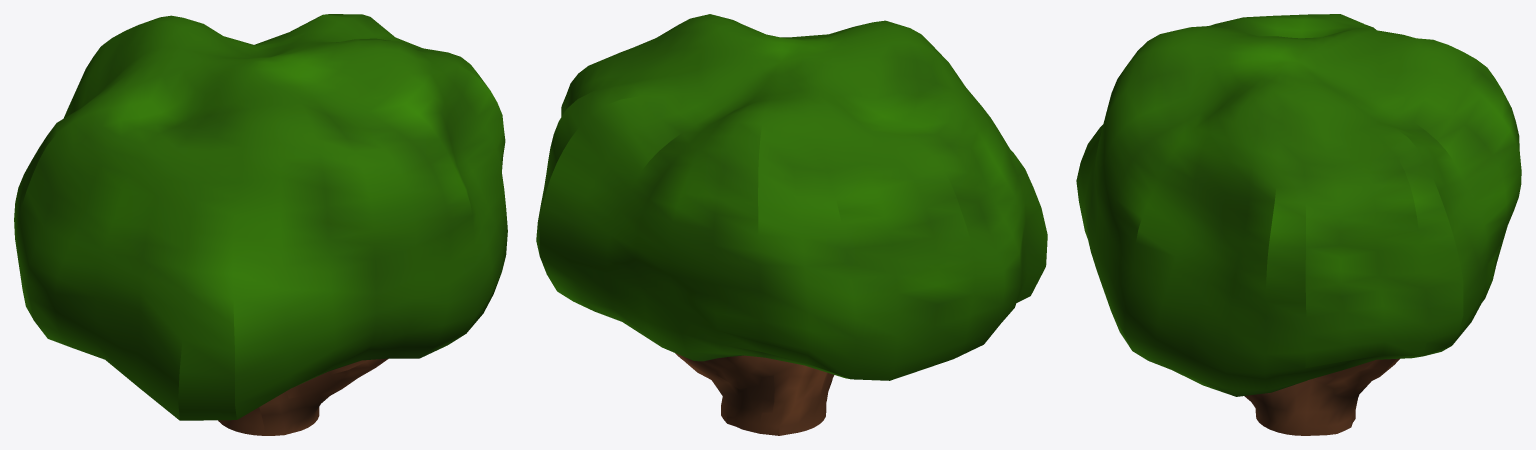
The model's file is LargeTreeTop1.fbx.
The picture shows the model from 3 angles, left to right: view 1: azimuth 30°, elevation 25°; view 2: azimuth 150°, elevation 25°; view 3: azimuth 270°, elevation 25°; orthographic projection. The views are drawn at different scales.
Visible parts, largest first — view 1: LargeTree_Top; view 2: LargeTree_Top; view 3: LargeTree_Top.
Boxes of the visible parts, x1,y1,x2,y2 form: LargeTree_Top: [14, 14, 507, 435]; LargeTree_Top: [536, 14, 1047, 435]; LargeTree_Top: [1076, 14, 1521, 435].
Bounding box in the file's own units: 4198 × 3213 × 3607.
